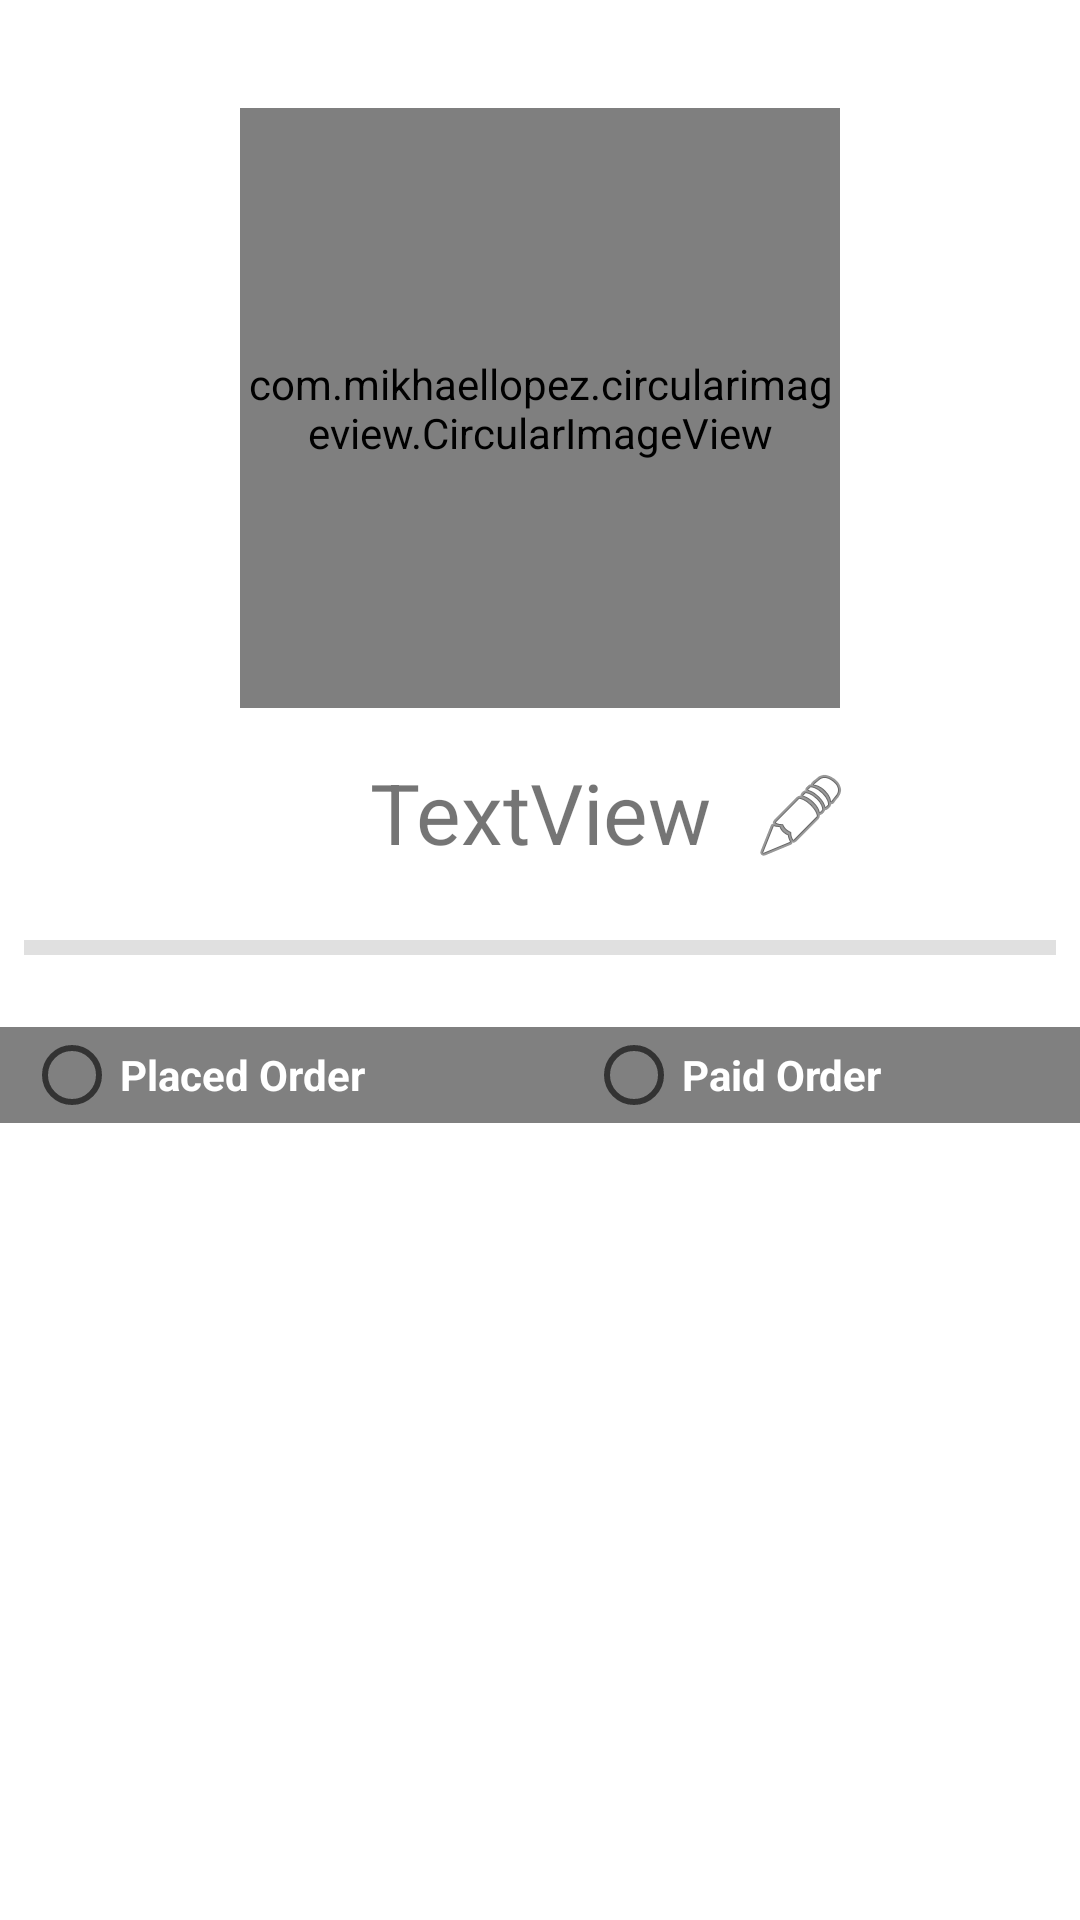

Screen size 1080 x 1920. Icon name, then its box in pixels as (x1, y1, x2, y2):
edit: (760, 775, 841, 856)
